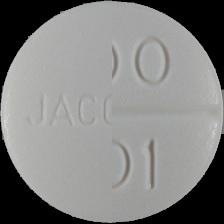54868-3801: (0, 0, 224, 224)
